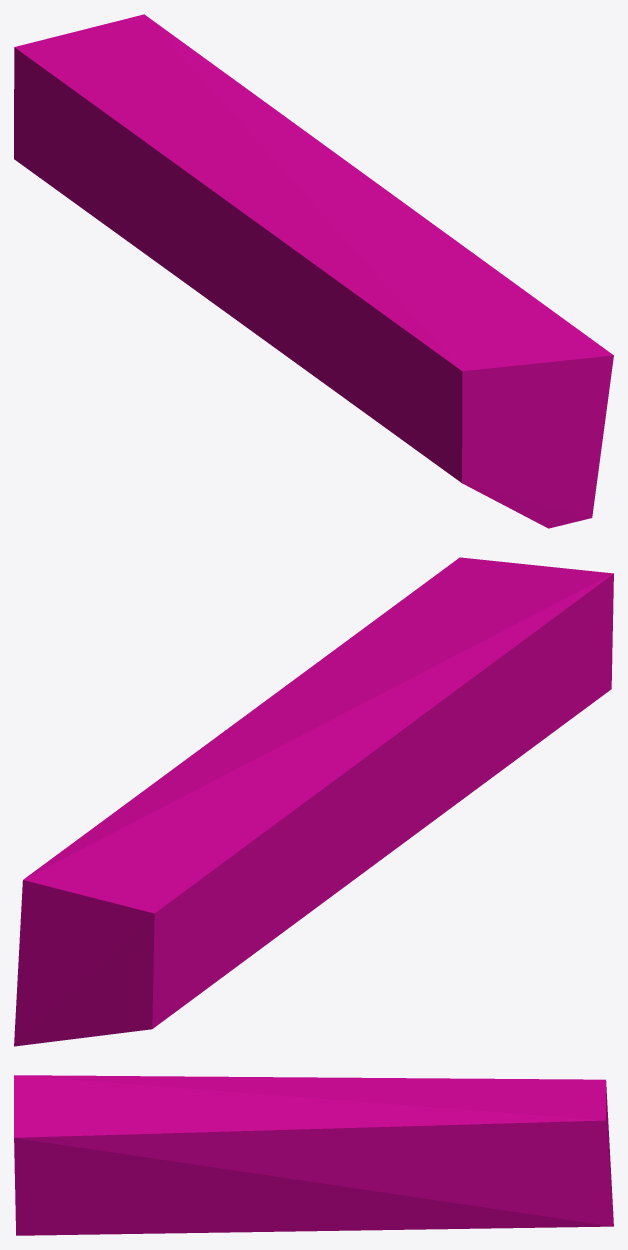
Rendered from recycle_bin_convex_piece_009.obj.
3 views of the same model, one above another, from view 1: azimuth 30°, elevation 25°; view 2: azimuth 150°, elevation 25°; view 3: azimuth 270°, elevation 25° (orthographic). The views are drawn at different scales.
Bounding box in the file's own units: 0.029 × 0.0329 × 0.1508.
